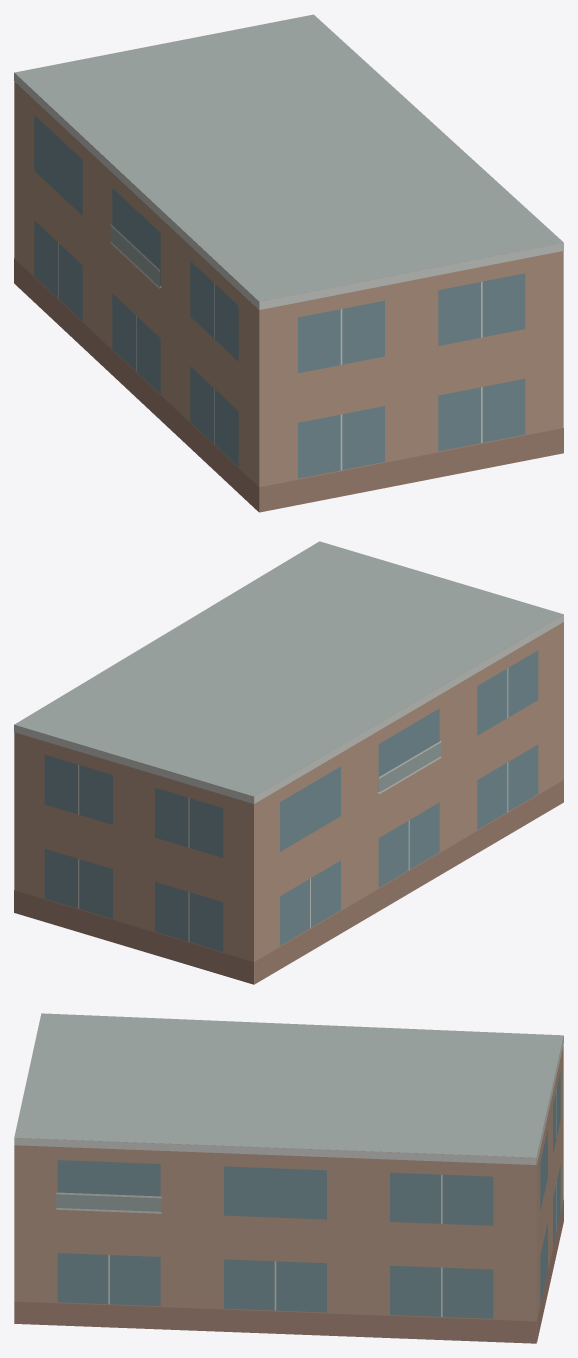
The model's file is survey-upis-32879845.glb.
3 renders of one model, top to bottom at view 1: azimuth 30°, elevation 25°; view 2: azimuth 150°, elevation 25°; view 3: azimuth 270°, elevation 25°, orthographic. The views are drawn at different scales.
Parts seen in each view (by area): view 1: survey-upis-32879845.tmp; view 2: survey-upis-32879845.tmp; view 3: survey-upis-32879845.tmp.
Part boxes in pixels (x1=…): survey-upis-32879845.tmp: x1=14, y1=14, x2=563, y2=512; survey-upis-32879845.tmp: x1=14, y1=541, x2=563, y2=984; survey-upis-32879845.tmp: x1=14, y1=1013, x2=563, y2=1343.
Size of the model in its own units: 10.16 by 6.1 by 16.35.
